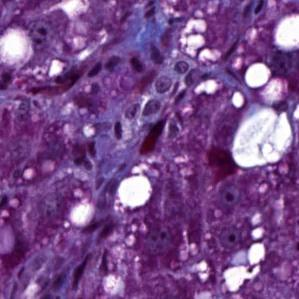ballooning: (230, 106, 295, 170)
